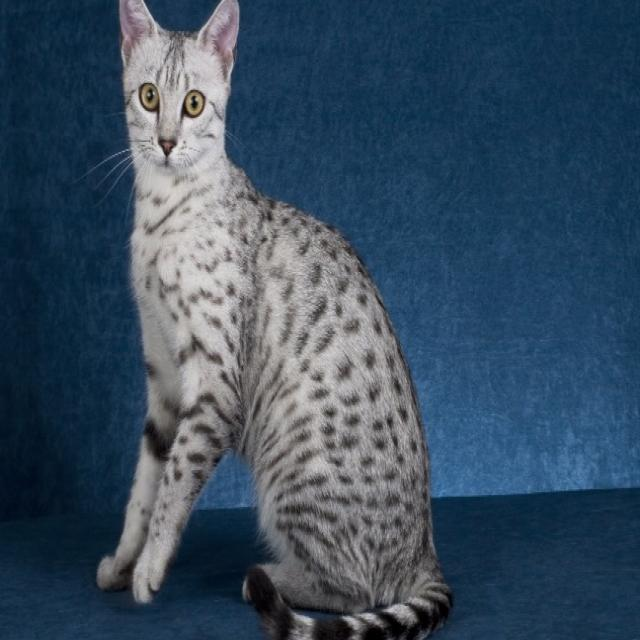Egyptian Mau: (93, 0, 456, 640)
